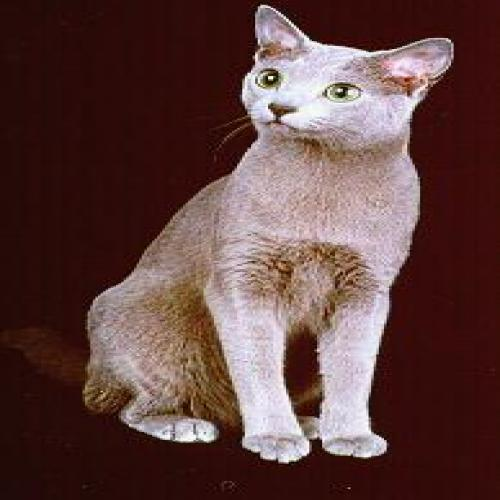rblue: (230, 2, 462, 159)
